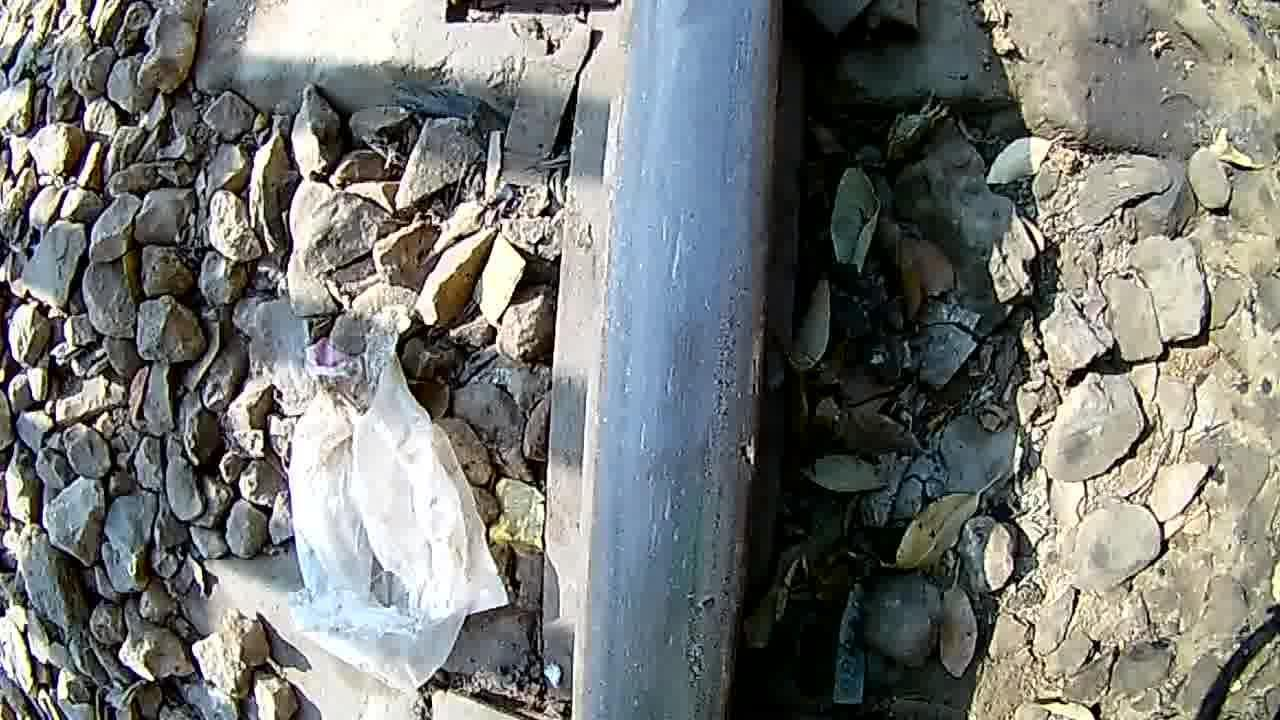crack: (581, 3, 783, 720)
